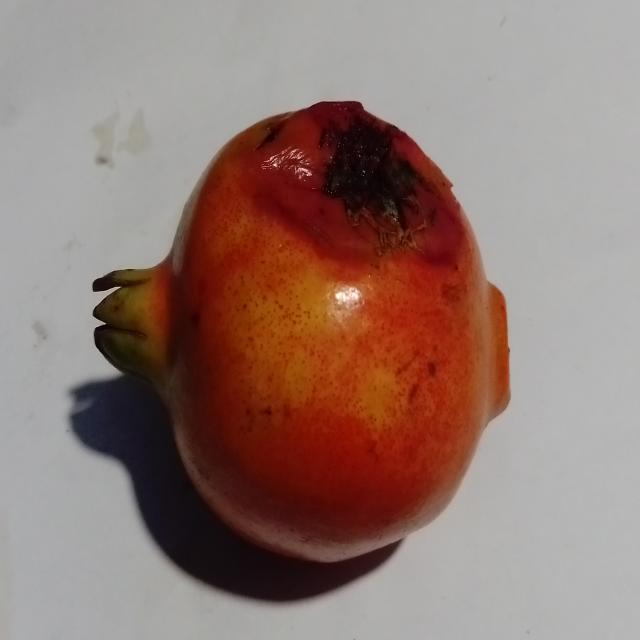Rotten: (92, 96, 522, 568)
